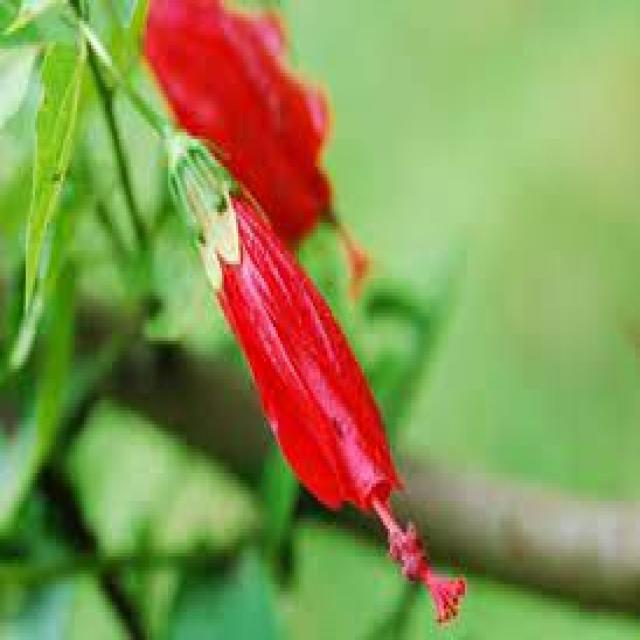Flower: (163, 122, 486, 623)
